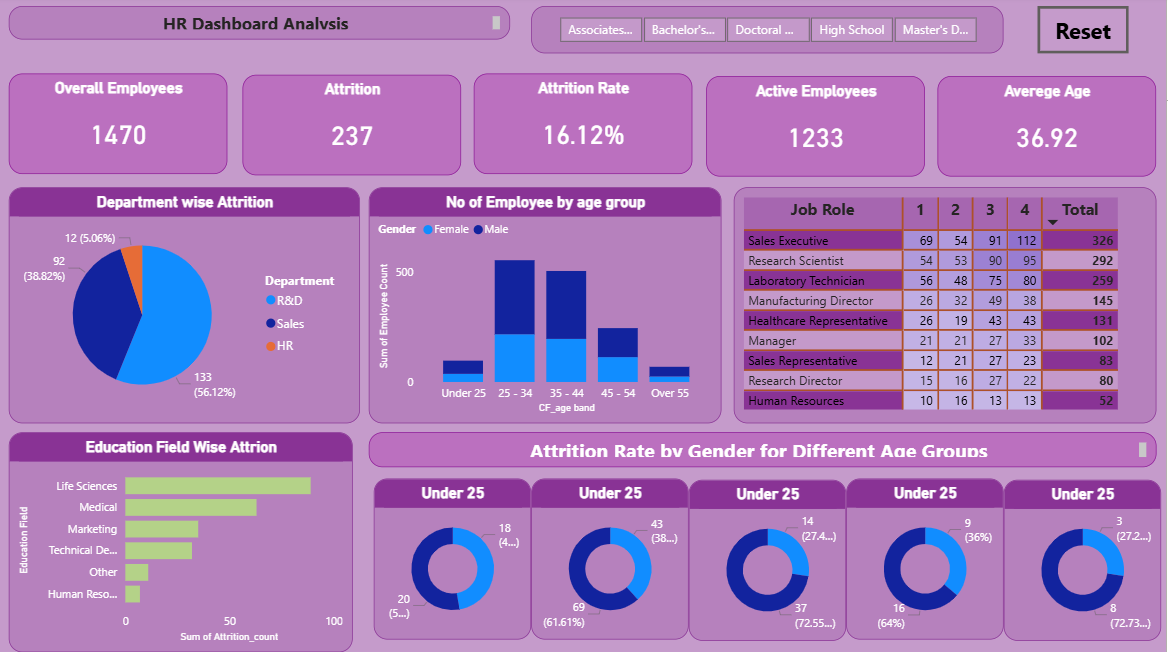

The page's visual inventory and layout, read from the dashboard file:
{"tool":"powerbi","page":{"name":"Page 1","canvas":[1280,720],"ordinal":0},"visuals":[{"type":"card","title":"Overall Employees","fields":{"Values":["Sum(HR data.Employee Count)"]},"box":[10,85.6,240,110],"z":0},{"type":"card","title":"Attrition","fields":{"Values":["Sum(HR data.Attrition_count)"]},"box":[266.7,86.7,240,110],"z":1000},{"type":"card","title":"Attrition Rate","fields":{"Values":["HR data.Attrition Rate"]},"box":[520,85.6,240,110],"z":2000},{"type":"card","title":"Active Employees","fields":{"Values":["HR data.Active_emp"]},"box":[775.7,87.1,240,110],"z":3000},{"type":"card","title":"Averege Age","fields":{"Values":["Avg(HR data.Age)"]},"box":[1028.6,87.1,240,110],"z":4000},{"type":"pieChart","title":"Department wise Attrition ","fields":{"Category":["HR data.Department"],"Y":["Sum(HR data.Attrition_count)"]},"box":[9.6,209.9,385.6,259.3],"z":5000},{"type":"columnChart","title":"No of Employee by age group","fields":{"Category":["HR data.CF_age band"],"Y":["Sum(HR data.Employee Count)"],"Series":["HR data.Gender"]},"box":[404.8,209.9,387,259.3],"z":6000},{"type":"pivotTable","title":"Job Satisgaction Rate","fields":{"Columns":["HR data.Job Satisfaction"],"Rows":["HR data.Job Role"],"Values":["Sum(HR data.Employee Count)"]},"box":[805.5,209.9,463.8,259.3],"z":7000},{"type":"barChart","title":"Education Field Wise Attrion","fields":{"Category":["HR data.Education Field"],"Y":["Sum(HR data.Attrition_count)"]},"box":[9.6,478.9,377.4,241.5],"z":8000},{"type":"donutChart","title":"Under 25","fields":{"Series":["HR data.CF_age band"],"Y":["Sum(HR data.Attrition_count)"],"Category":["HR data.Gender"]},"box":[410.3,529.7,172.9,177],"z":9000},{"type":"textbox","box":[404.8,478.9,864.5,38.4],"z":10000},{"type":"donutChart","title":"Under 25","fields":{"Series":["HR data.CF_age band"],"Y":["Sum(HR data.Attrition_count)"],"Category":["HR data.Gender"]},"box":[583.2,529.7,172.9,177],"z":11000},{"type":"donutChart","title":"Under 25","fields":{"Series":["HR data.CF_age band"],"Y":["Sum(HR data.Attrition_count)"],"Category":["HR data.Gender"]},"box":[756.1,531,172.9,177],"z":12000},{"type":"donutChart","title":"Under 25","fields":{"Series":["HR data.CF_age band"],"Y":["Sum(HR data.Attrition_count)"],"Category":["HR data.Gender"]},"box":[929,529.7,172.9,177],"z":13000},{"type":"donutChart","title":"Under 25","fields":{"Series":["HR data.CF_age band"],"Y":["Sum(HR data.Attrition_count)"],"Category":["HR data.Gender"]},"box":[1101.9,531,172.9,177],"z":14000},{"type":"textbox","box":[9.6,11,550.3,37],"z":15000},{"type":"slicer","fields":{"Values":["HR data.Education"]},"box":[583.2,11,518.7,52.1],"z":16000},{"type":"actionButton","box":[1138.9,11,100.2,52.1],"z":16001}]}

Visuals, with their boxes in screenshot pixels (x1, y1, x2, y2), scaled from the page's 1280x720 canvas onto the 1168x652 screenshot:
"Overall Employees" card: box(9, 78, 228, 177)
"Attrition" card: box(243, 79, 462, 178)
"Attrition Rate" card: box(474, 78, 694, 177)
"Active Employees" card: box(708, 79, 927, 178)
"Averege Age" card: box(939, 79, 1158, 178)
"Department wise Attrition " pieChart: box(9, 190, 361, 425)
"No of Employee by age group" columnChart: box(369, 190, 723, 425)
"Job Satisgaction Rate" pivotTable: box(735, 190, 1158, 425)
"Education Field Wise Attrion" barChart: box(9, 434, 353, 651)
"Under 25" donutChart: box(374, 480, 532, 640)
textbox: box(369, 434, 1158, 468)
"Under 25" donutChart: box(532, 480, 690, 640)
"Under 25" donutChart: box(690, 481, 848, 641)
"Under 25" donutChart: box(848, 480, 1005, 640)
"Under 25" donutChart: box(1005, 481, 1163, 641)
textbox: box(9, 10, 511, 43)
slicer - HR data.Education: box(532, 10, 1005, 57)
actionButton: box(1039, 10, 1131, 57)
